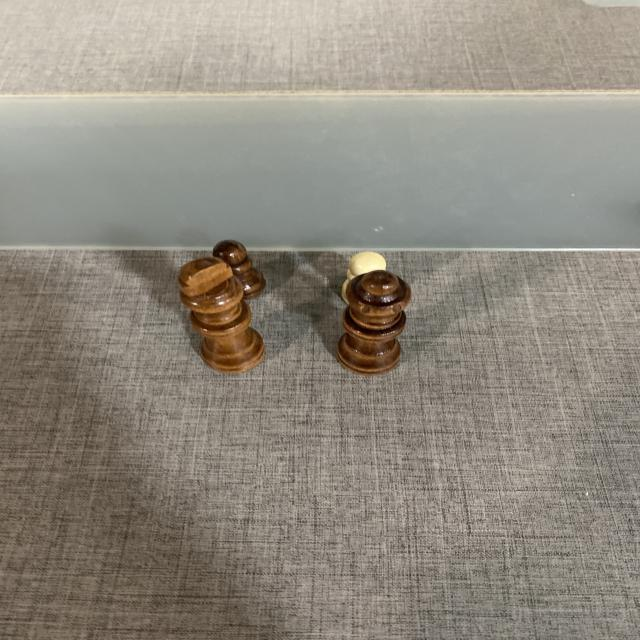Black-King: (175, 254, 268, 375)
Black-Pawn: (212, 238, 268, 300)
Black-Queen: (335, 269, 413, 376)
White-Pawn: (340, 251, 390, 303)
